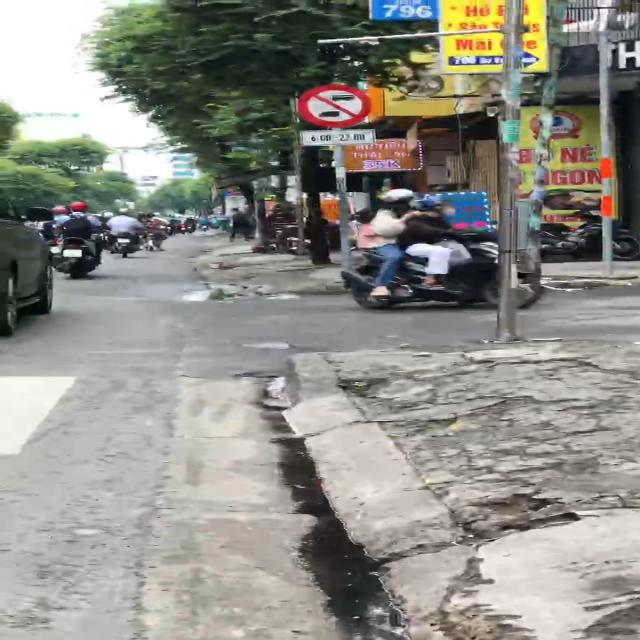Bien bao cam xe oto khach va xe oto tai: (291, 82, 374, 128)
